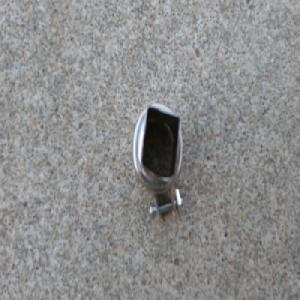MetalPart: (131, 100, 184, 229)
